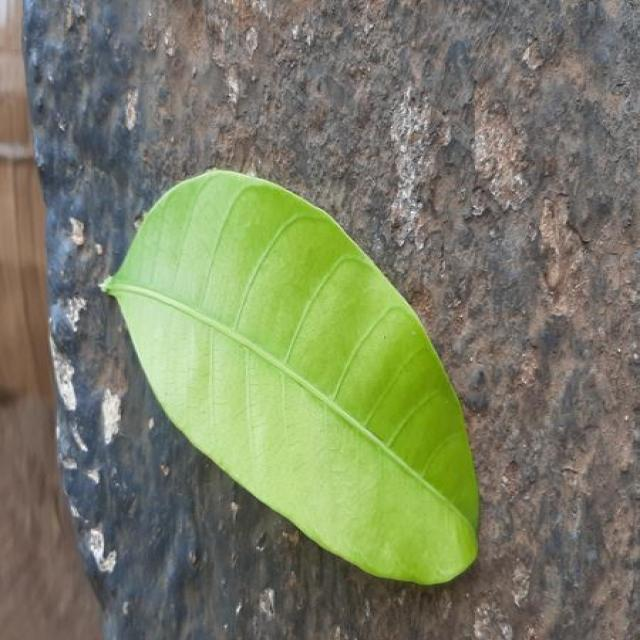mango: (103, 171, 478, 584)
